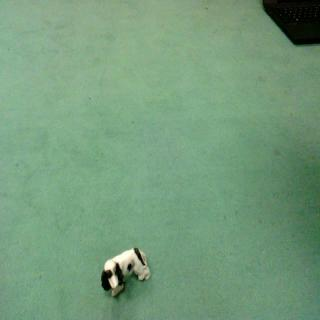dog: (95, 244, 155, 305)
